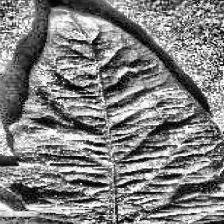spider mites: (0, 7, 224, 224)
